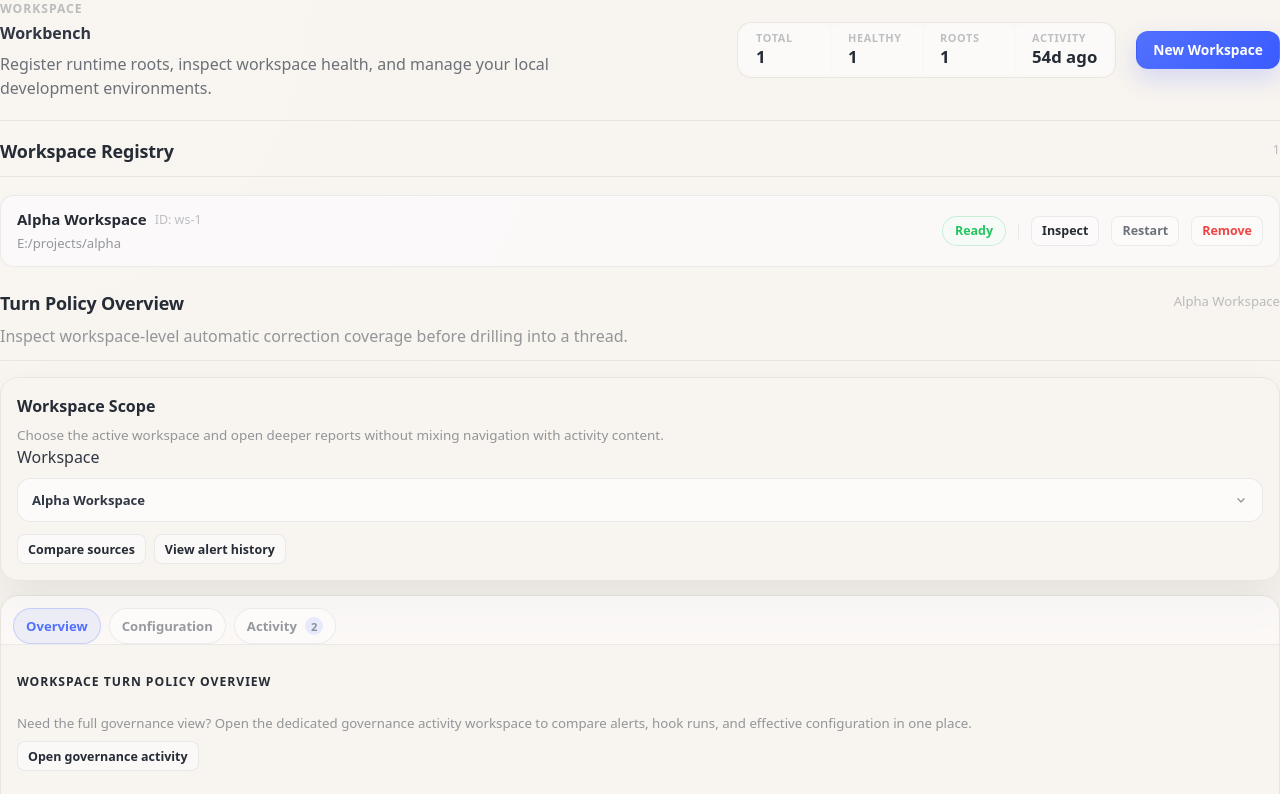
Scenario: WorkspacesPage › renders workspace turn policy overview and recent decisions sections
The width and height of the screenshot is (1280, 794).
Expected: the link "Compare sources" is shown, [17,534,146,564]
Expected: the heading "Turn Policy Overview" is shown, [0,290,184,314]
Click the tab "Configuration" at (167,626), box [109,608,226,644]
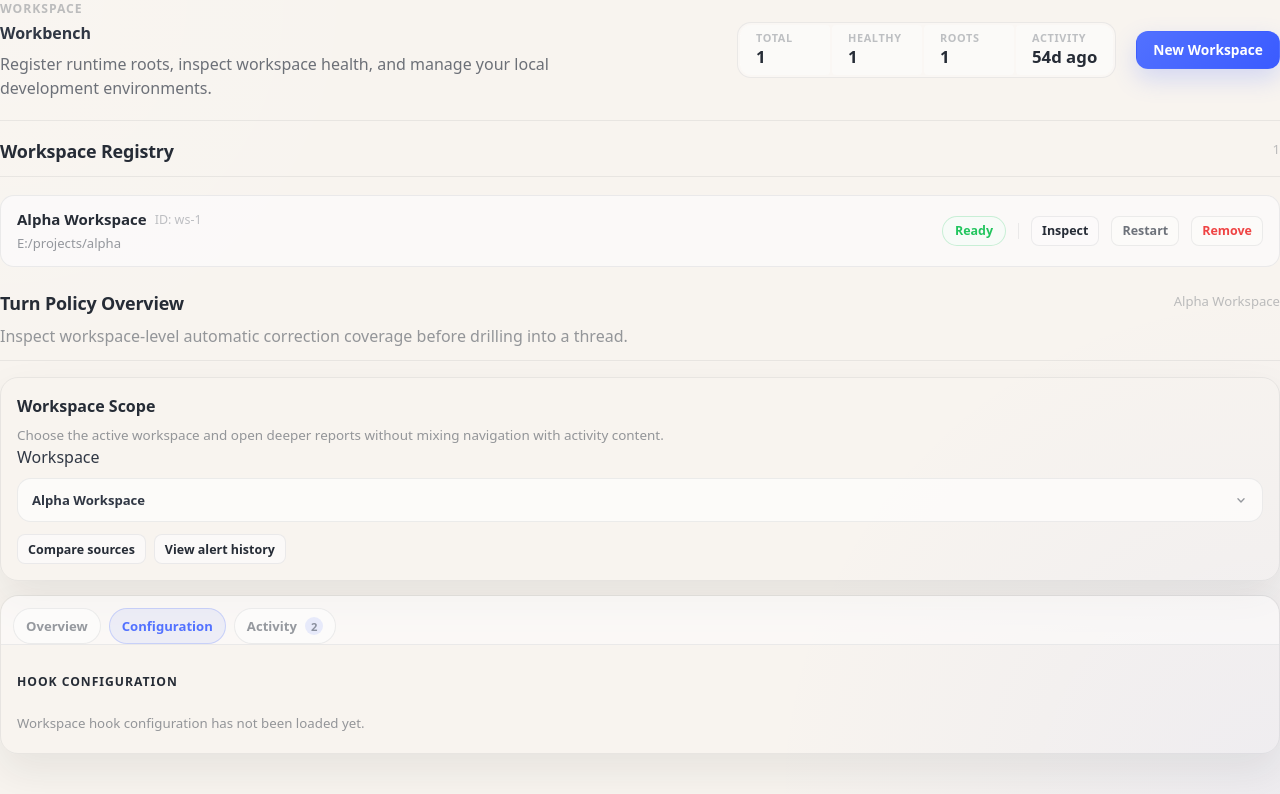
Now the heading "Hook Configuration" is shown, box [17,673,178,690]
Click the tab "Activity 2" at (285,626), box [234,608,336,644]
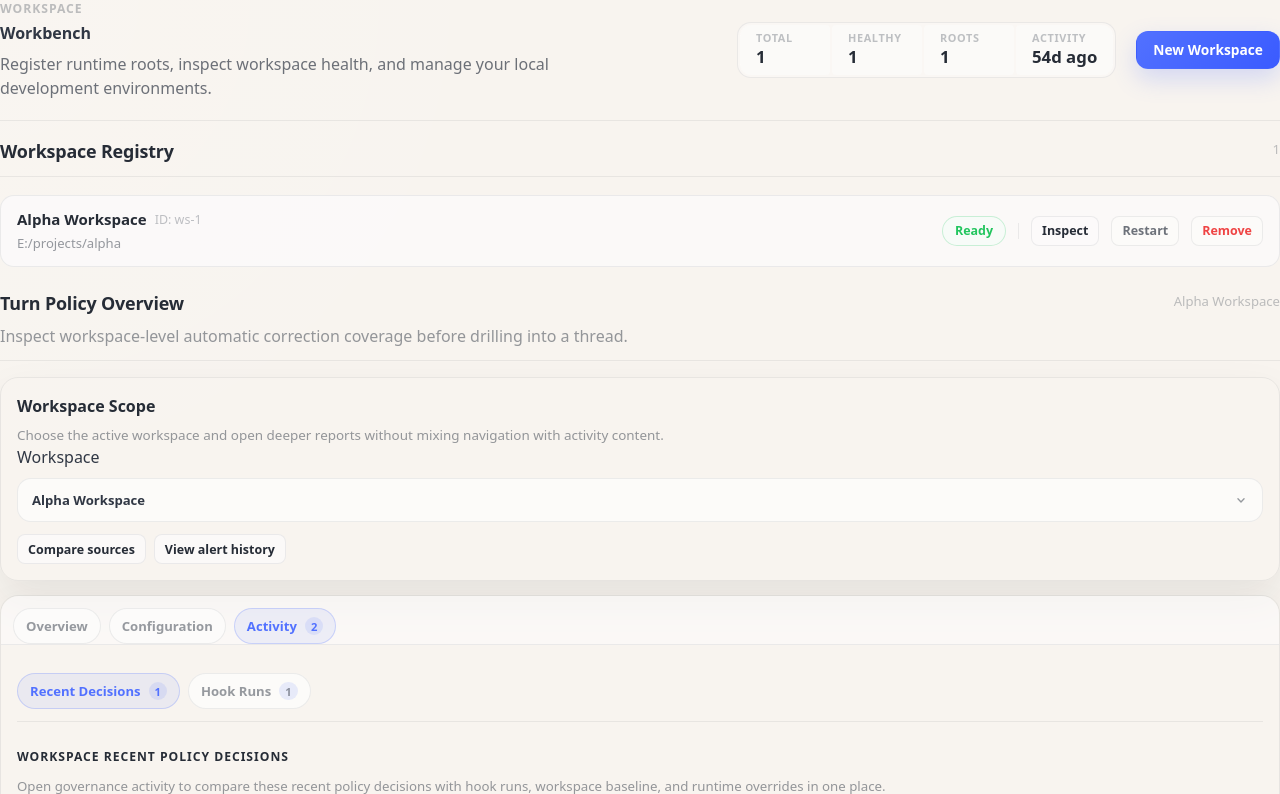
Now the heading "Workspace Recent Policy Decisions" is shown, box [17,748,289,765]
Click the tab "Hook Runs 1" at (249,691), box [188,673,311,709]
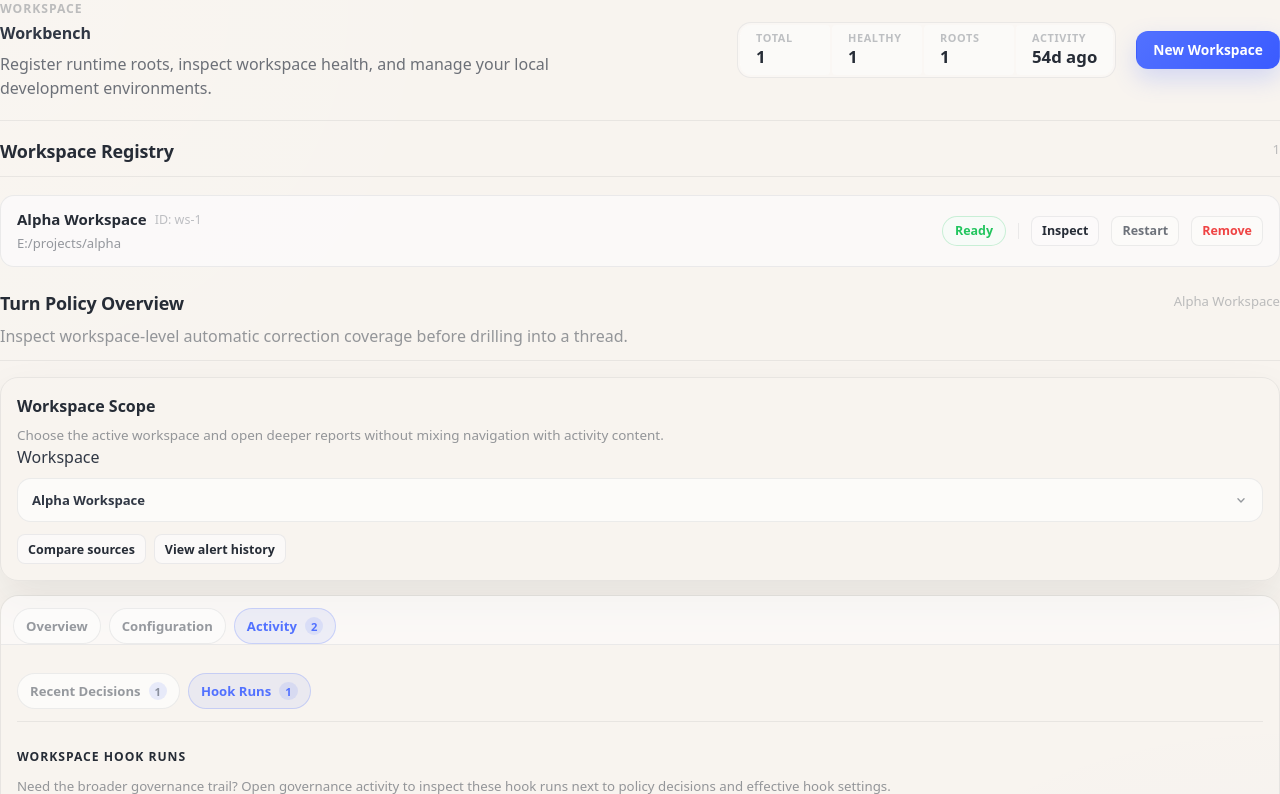
Now the heading "Workspace Hook Runs" is shown, box [17,748,186,765]
